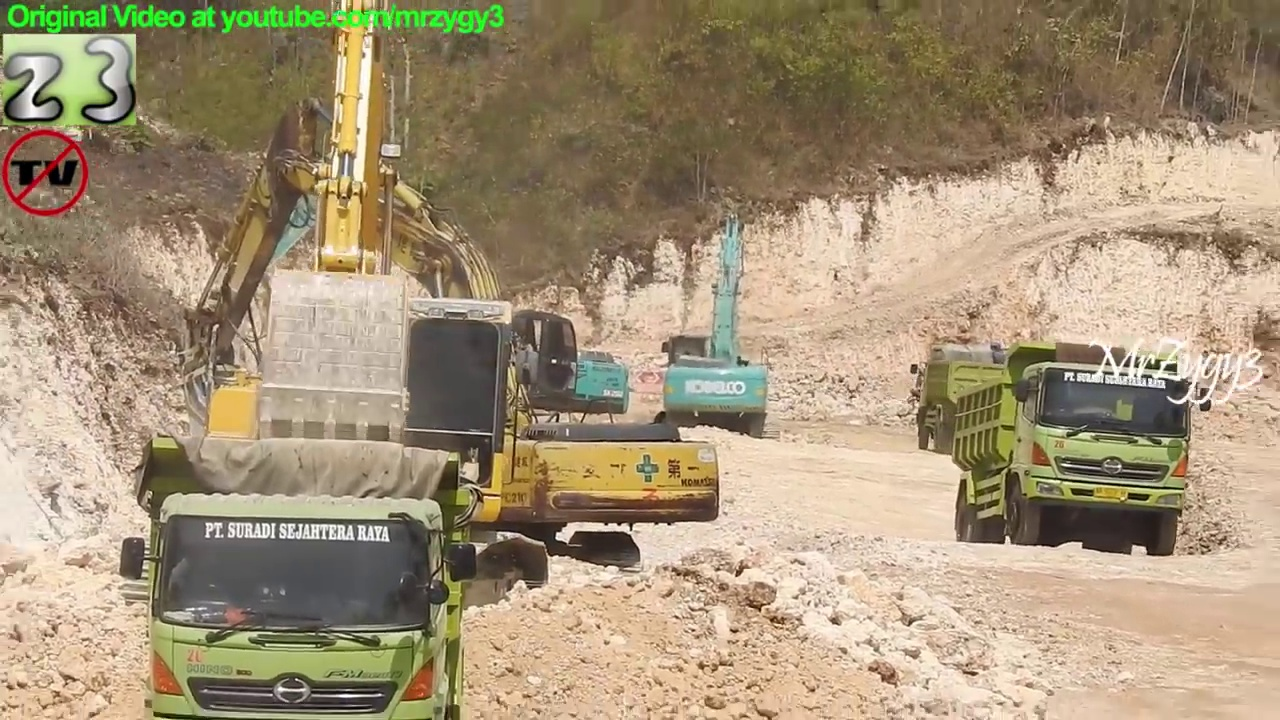excavator: (165, 95, 724, 600), (119, 1, 558, 621), (193, 144, 636, 488), (644, 207, 784, 444)
truck: (119, 430, 486, 720), (950, 341, 1216, 559), (903, 338, 1068, 468)
